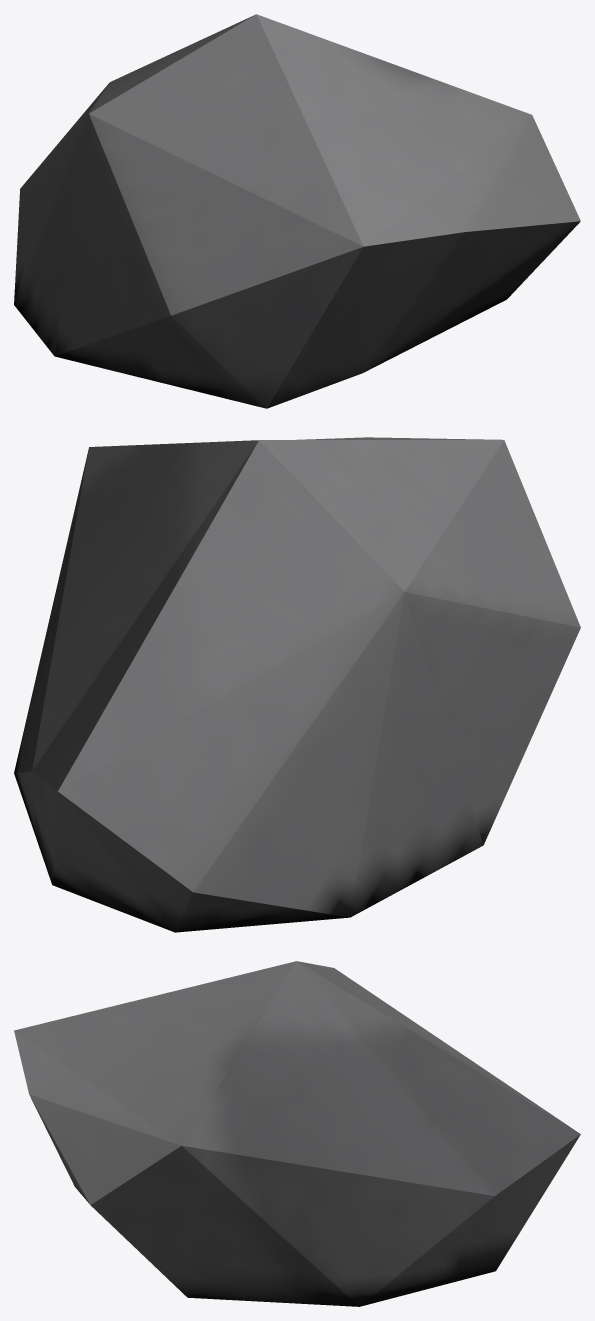
Rendered from Stone.fbx.
3 renders of one model, top to bottom at view 1: azimuth 30°, elevation 25°; view 2: azimuth 150°, elevation 25°; view 3: azimuth 270°, elevation 25°, orthographic. The views are drawn at different scales.
Parts seen in each view (by area): view 1: Stone; view 2: Stone; view 3: Stone.
Part boxes in pixels (left/top/right/bottom): Stone: left=14, top=14, right=580, bottom=408; Stone: left=14, top=437, right=580, bottom=932; Stone: left=14, top=961, right=580, bottom=1306.
Size of the model in its own units: 142 by 106 by 192.
1 material, 1 textured.
